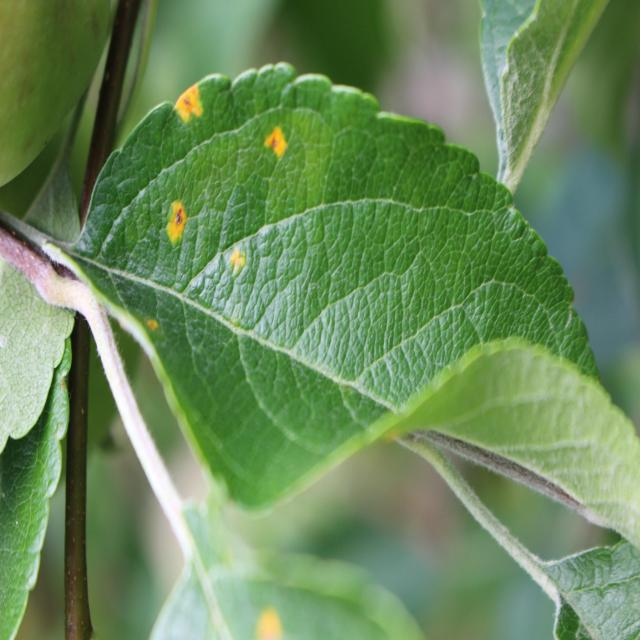Rust: (162, 74, 222, 133), (162, 186, 196, 266), (255, 112, 291, 164), (227, 233, 251, 291), (139, 309, 163, 343)
